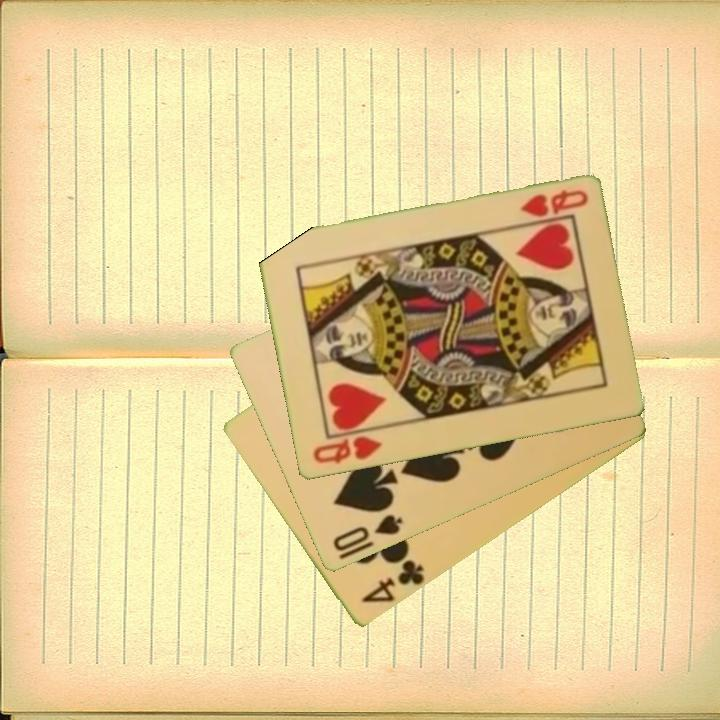10s: (329, 511, 405, 555)
4c: (357, 556, 427, 607)
Qh: (309, 433, 385, 468), (516, 187, 591, 221)
